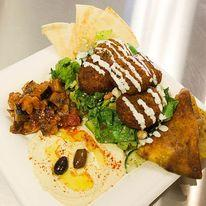eggplant: (5, 77, 81, 134)
falafel: (79, 37, 168, 129)
hummus: (29, 131, 131, 203)
samosa: (140, 86, 204, 183)
